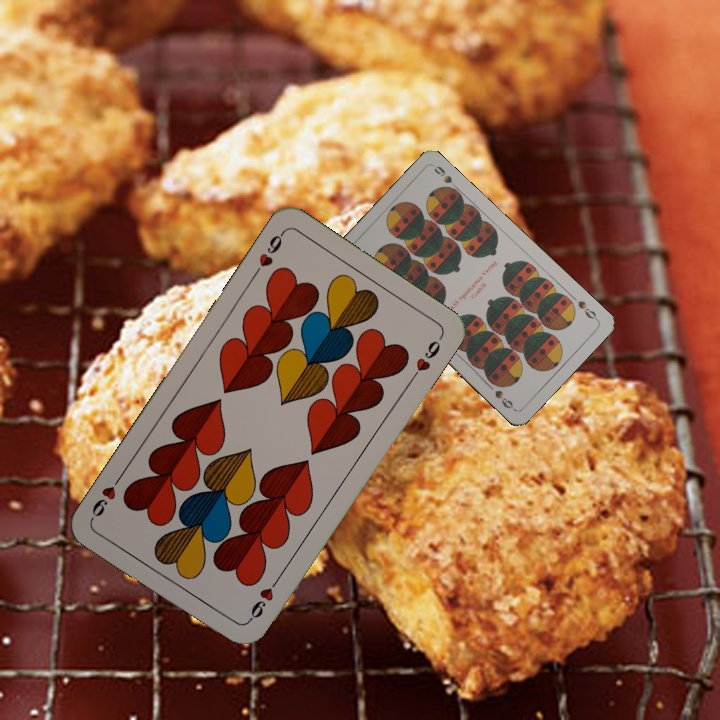H9: (243, 573, 283, 625), (249, 227, 287, 280)
S9: (574, 296, 601, 323)
